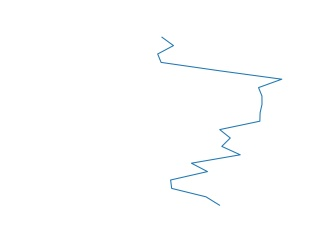floodPlain: (155, 36, 285, 208)
